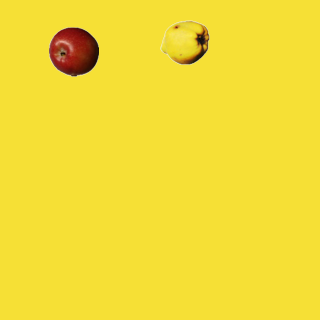Apple Braeburn: (48, 26, 98, 76)
Quince: (159, 17, 209, 67)
